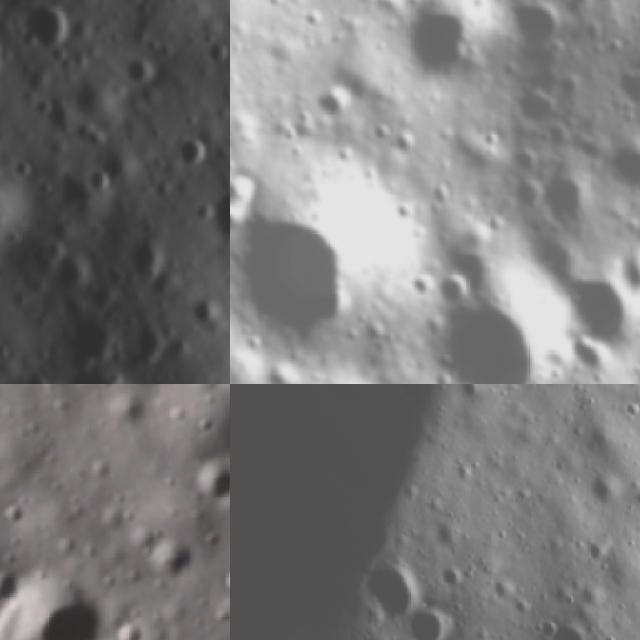crater: (230, 155, 396, 373), (398, 259, 570, 384), (546, 246, 640, 365), (385, 0, 497, 87), (46, 295, 134, 379), (0, 569, 100, 640), (354, 548, 431, 625), (528, 168, 604, 246), (0, 0, 90, 63), (498, 0, 578, 61), (0, 147, 37, 272), (185, 166, 230, 255), (42, 350, 144, 384), (230, 149, 275, 222), (173, 288, 230, 345), (162, 125, 218, 183), (110, 42, 170, 96), (398, 591, 464, 640), (596, 132, 640, 203), (423, 255, 477, 312), (127, 542, 191, 582), (76, 156, 128, 204), (309, 79, 360, 127), (607, 240, 640, 299), (185, 463, 230, 505), (540, 607, 594, 640), (194, 31, 230, 77), (208, 253, 230, 318), (0, 499, 31, 527), (215, 568, 230, 606), (190, 414, 212, 436), (117, 620, 140, 640)
